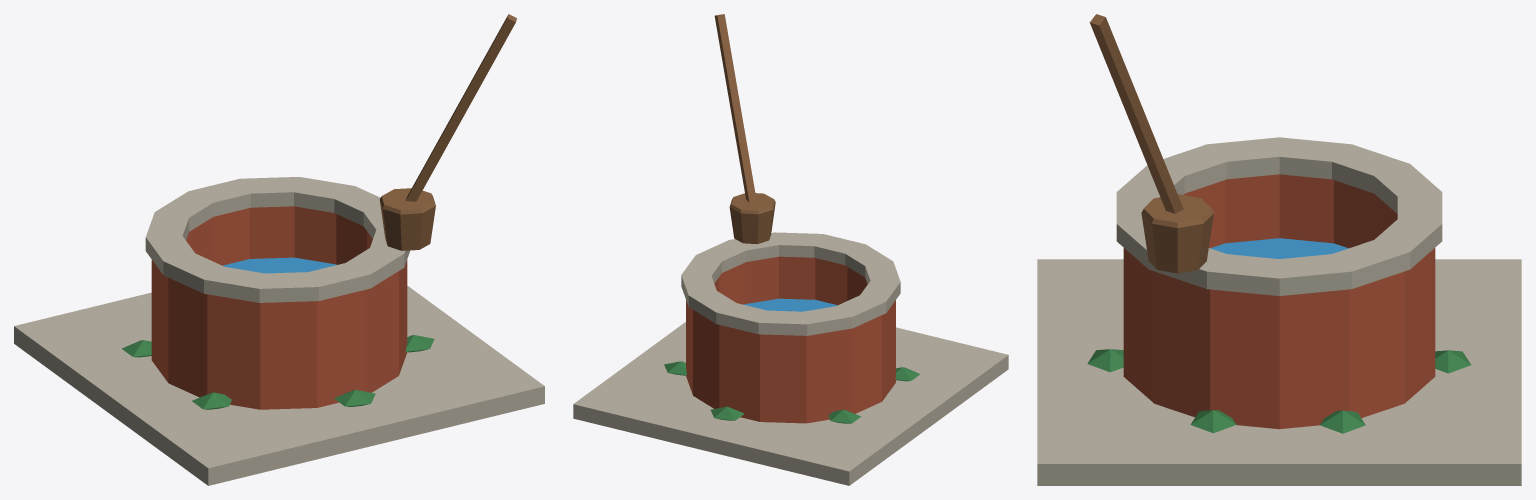
The model's file is viet_well.glb.
The picture shows the model from 3 angles, left to right: view 1: azimuth 30°, elevation 25°; view 2: azimuth 150°, elevation 25°; view 3: azimuth 270°, elevation 25°; orthographic projection. The views are drawn at different scales.
Parts seen in each view (by area): view 1: viet_well; view 2: viet_well; view 3: viet_well.
Boxes of the visible parts, x1=… form: viet_well: x1=14, y1=14, x2=544, y2=485; viet_well: x1=573, y1=14, x2=1008, y2=485; viet_well: x1=1037, y1=14, x2=1521, y2=485.
Size of the model in its own units: 0.9474 by 1 by 0.9474.
